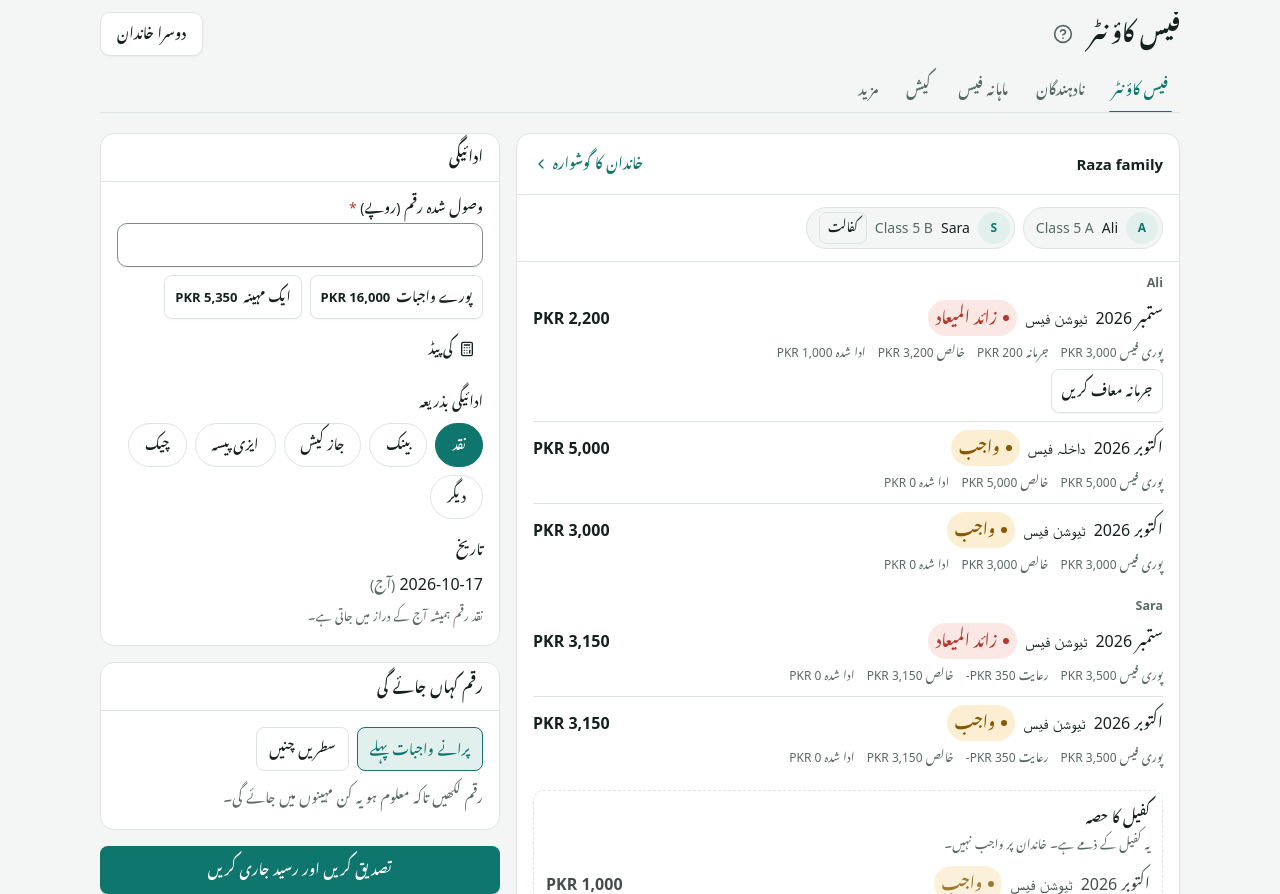
Test: fee counter › Urdu: dir=rtl, amounts stay Latin inside isolated runs
Expected: the text "Raza family" is shown, [1076,154,1163,174]
Type "۵۰۰۰" into the field with id "counter-amount" at (300, 245), box [117,223,483,267]
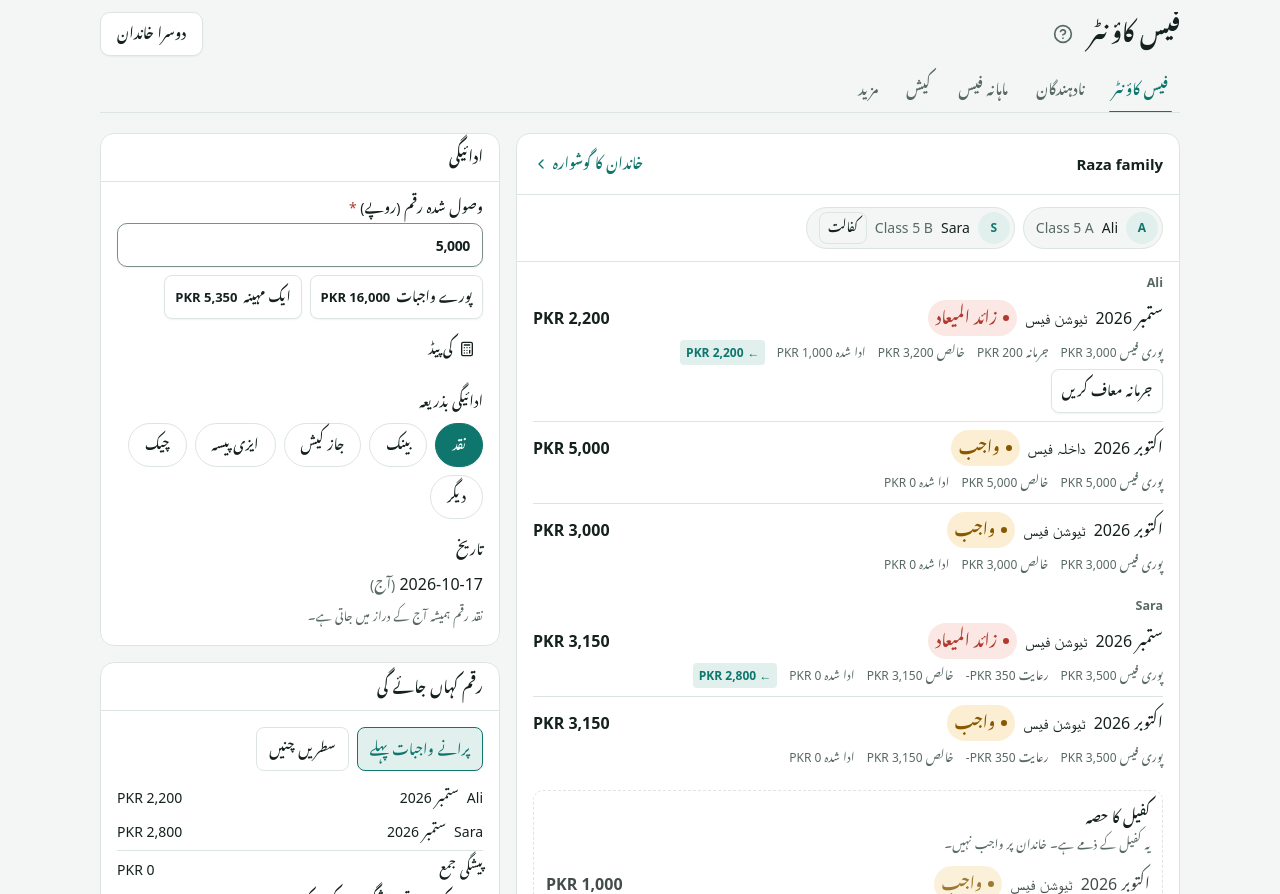
Now the field with id "counter-amount" holds "5,000", box [117,223,483,267]
